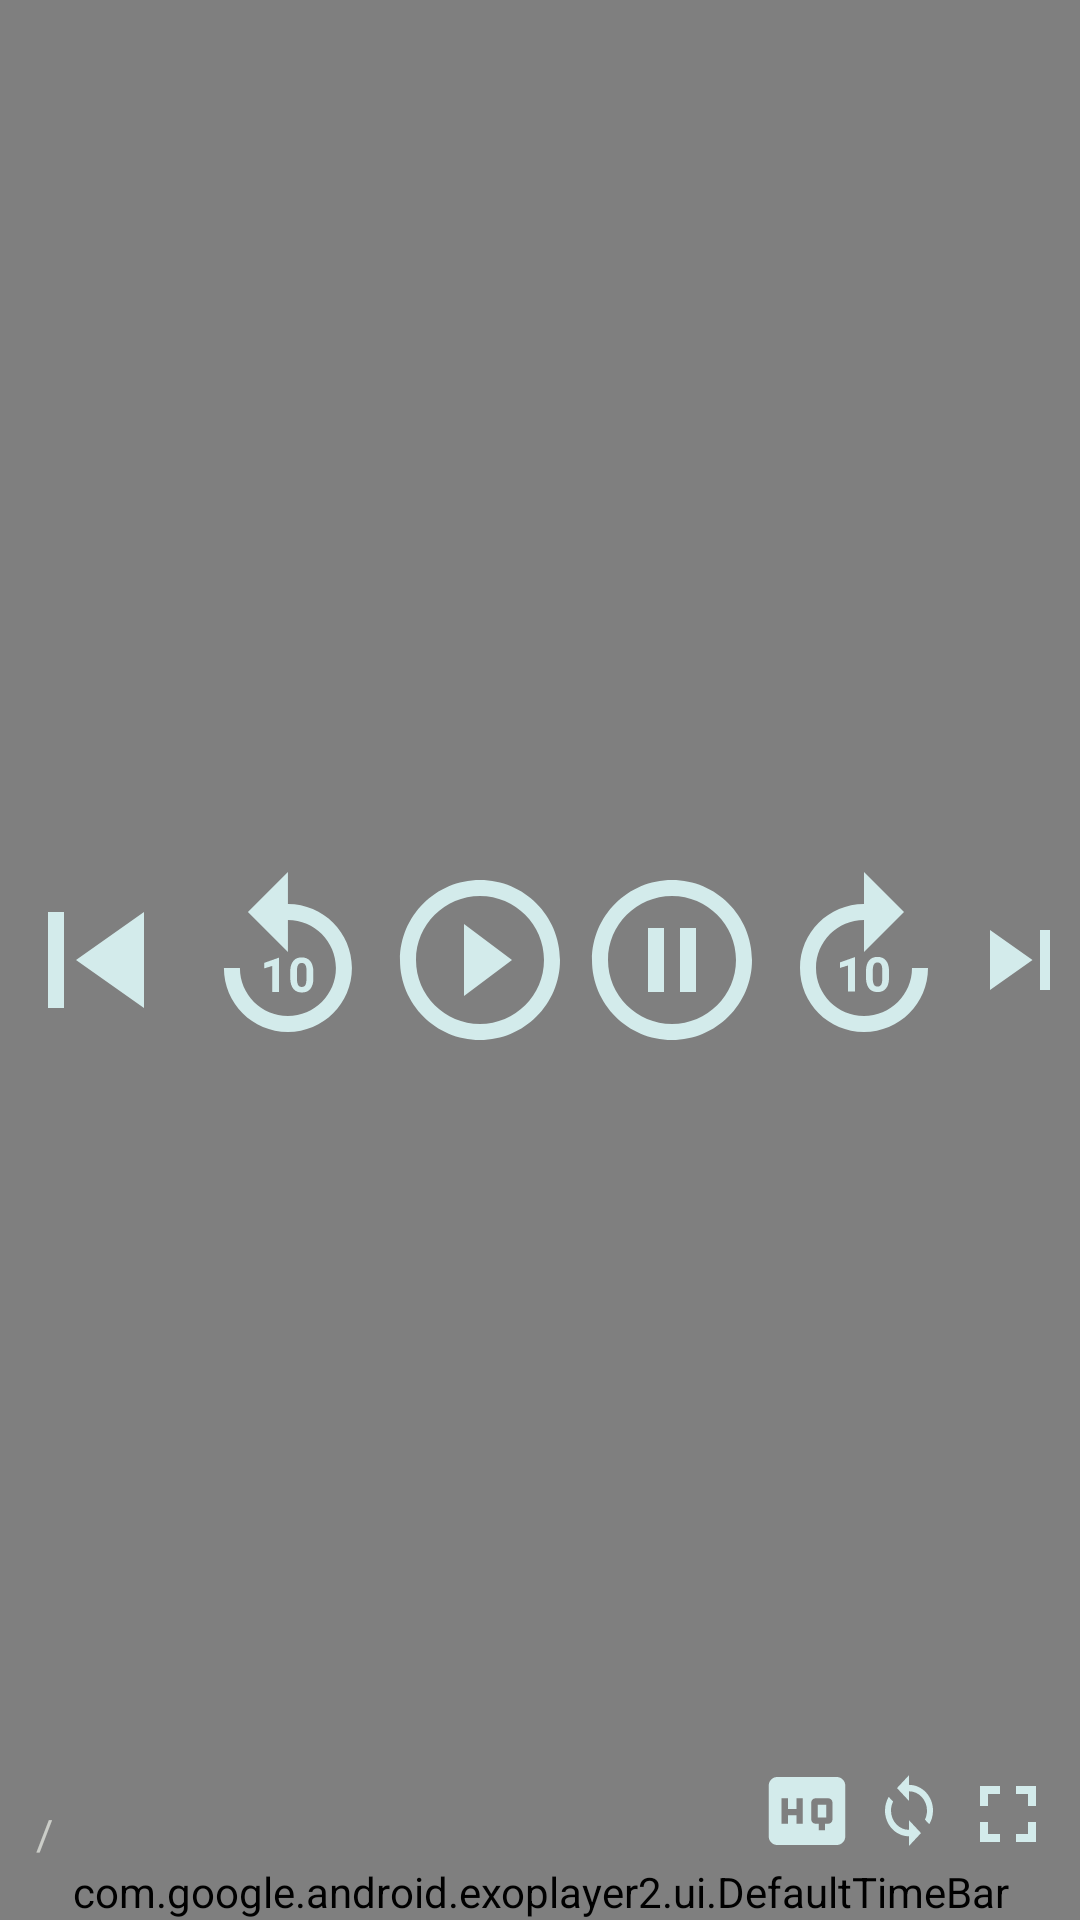

Locate icon controls on the screen. Image size 1080*1920, boxes as bbox(x1, y1, x2, y2).
fullscreen: bbox(980, 1786, 1036, 1842)
loop: bbox(885, 1775, 933, 1846)
next: bbox(990, 930, 1050, 990)
pause: bbox(592, 880, 752, 1040)
play: bbox(400, 880, 560, 1040)
previous: bbox(48, 912, 144, 1008)
quality: bbox(768, 1777, 846, 1845)
rewind: bbox(224, 872, 352, 1032)
